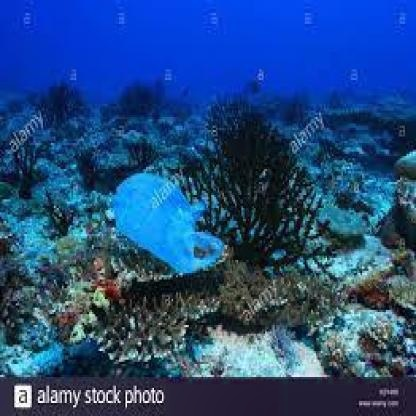pbag: (111, 171, 227, 277)
